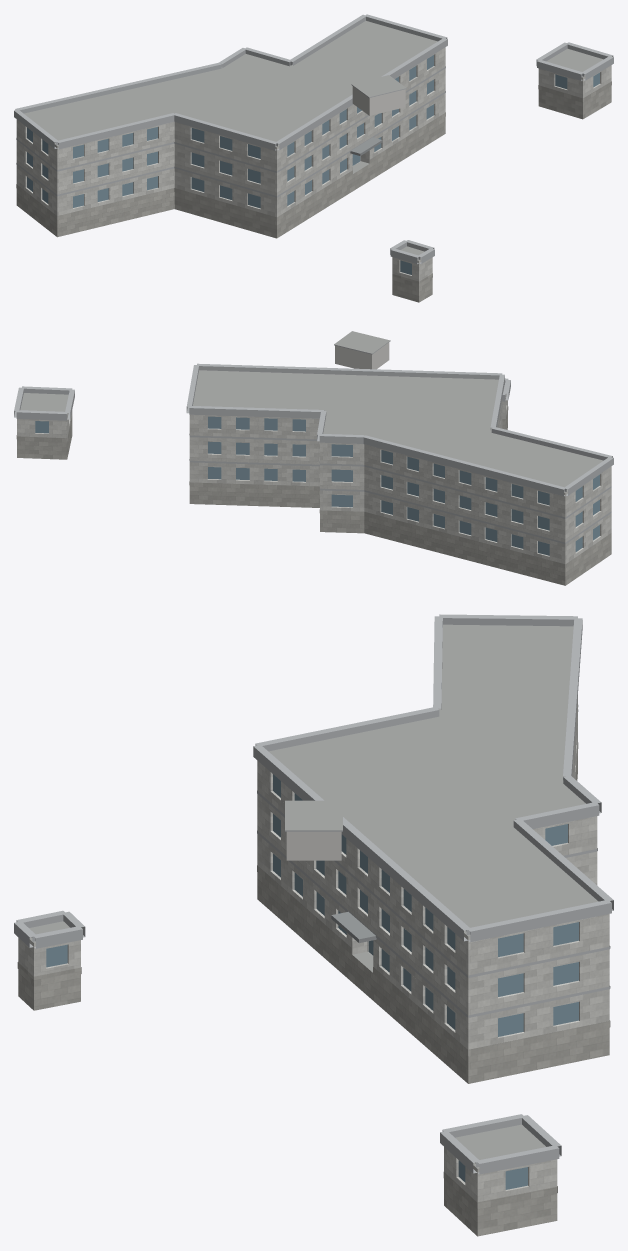
The picture shows the model from 3 angles, top to bottom: view 1: azimuth 30°, elevation 25°; view 2: azimuth 150°, elevation 25°; view 3: azimuth 270°, elevation 25°; orthographic projection. The views are drawn at different scales.
Parts seen in each view (by area): view 1: analysisAnnexW8_2__wall, analysisAnnexW8_2__roof, analysisAnnexW8_2__base, analysisAnnexW8_2__trim, analysisAnnexW8_2__glass, analysisAnnexW8_2__wall2; view 2: analysisAnnexW8_2__wall, analysisAnnexW8_2__roof, analysisAnnexW8_2__trim, analysisAnnexW8_2__base, analysisAnnexW8_2__glass, analysisAnnexW8_2__wall2; view 3: analysisAnnexW8_2__roof, analysisAnnexW8_2__wall, analysisAnnexW8_2__trim, analysisAnnexW8_2__base, analysisAnnexW8_2__glass, analysisAnnexW8_2__wall2.
Part boxes in pixels (x1=…): analysisAnnexW8_2__wall: x1=16, y1=47, x2=611, y2=285; analysisAnnexW8_2__roof: x1=24, y1=21, x2=603, y2=260; analysisAnnexW8_2__base: x1=16, y1=81, x2=611, y2=302; analysisAnnexW8_2__trim: x1=14, y1=14, x2=613, y2=264; analysisAnnexW8_2__glass: x1=27, y1=55, x2=599, y2=274; analysisAnnexW8_2__wall2: x1=352, y1=86, x2=405, y2=115; analysisAnnexW8_2__wall: x1=17, y1=394, x2=611, y2=567; analysisAnnexW8_2__roof: x1=20, y1=331, x2=603, y2=492; analysisAnnexW8_2__trim: x1=14, y1=340, x2=613, y2=544; analysisAnnexW8_2__base: x1=16, y1=406, x2=611, y2=585; analysisAnnexW8_2__glass: x1=35, y1=416, x2=599, y2=555; analysisAnnexW8_2__wall2: x1=335, y1=342, x2=389, y2=369; analysisAnnexW8_2__roof: x1=29, y1=624, x2=598, y2=1168; analysisAnnexW8_2__wall: x1=18, y1=696, x2=609, y2=1208; analysisAnnexW8_2__trim: x1=14, y1=614, x2=613, y2=1174; analysisAnnexW8_2__base: x1=17, y1=742, x2=610, y2=1236; analysisAnnexW8_2__glass: x1=46, y1=774, x2=578, y2=1189; analysisAnnexW8_2__wall2: x1=286, y1=831, x2=341, y2=860.
Size of the model in its own units: 87.15 by 19.98 by 49.06.
9 materials, 2 textured.
